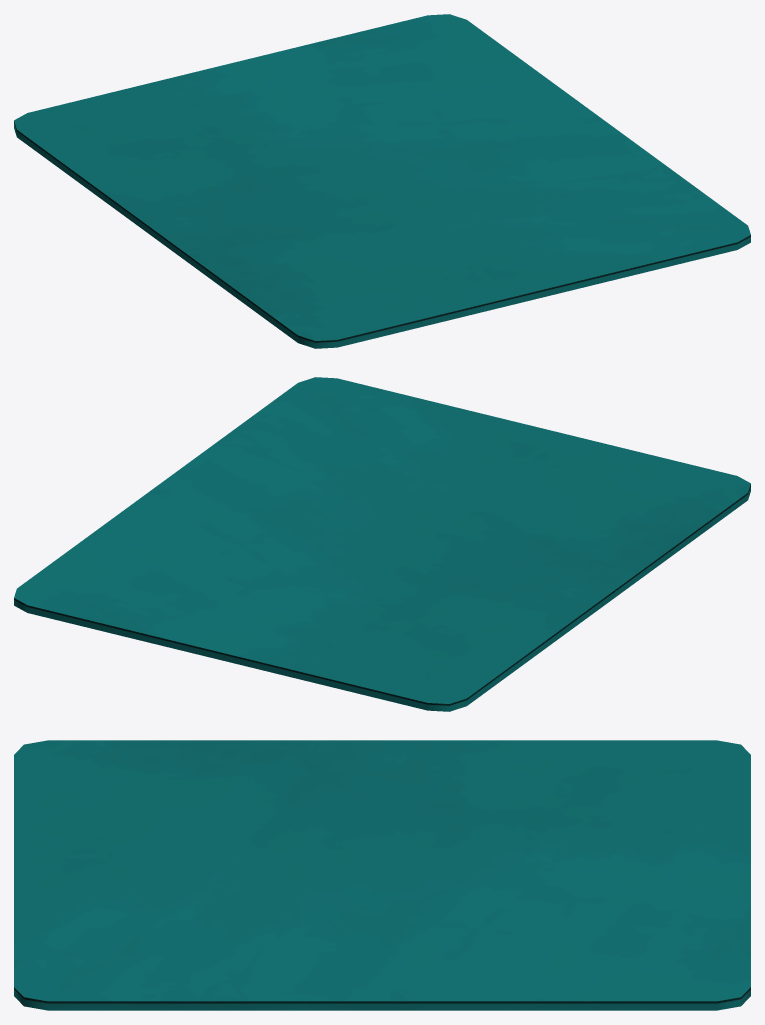
File: mousepad.fbx
The picture shows the model from 3 angles, top to bottom: view 1: azimuth 30°, elevation 25°; view 2: azimuth 150°, elevation 25°; view 3: azimuth 270°, elevation 25°; orthographic projection. The views are drawn at different scales.
Parts seen in each view (by area): view 1: polySurface614; view 2: polySurface614; view 3: polySurface614.
Boxes of the visible parts, box(x1,y1,x2,y2) form: polySurface614: box(14, 14, 750, 348); polySurface614: box(14, 377, 750, 711); polySurface614: box(14, 740, 750, 1010).
Bounding box in the file's own units: 0.3014 × 0.00496 × 0.3596.
